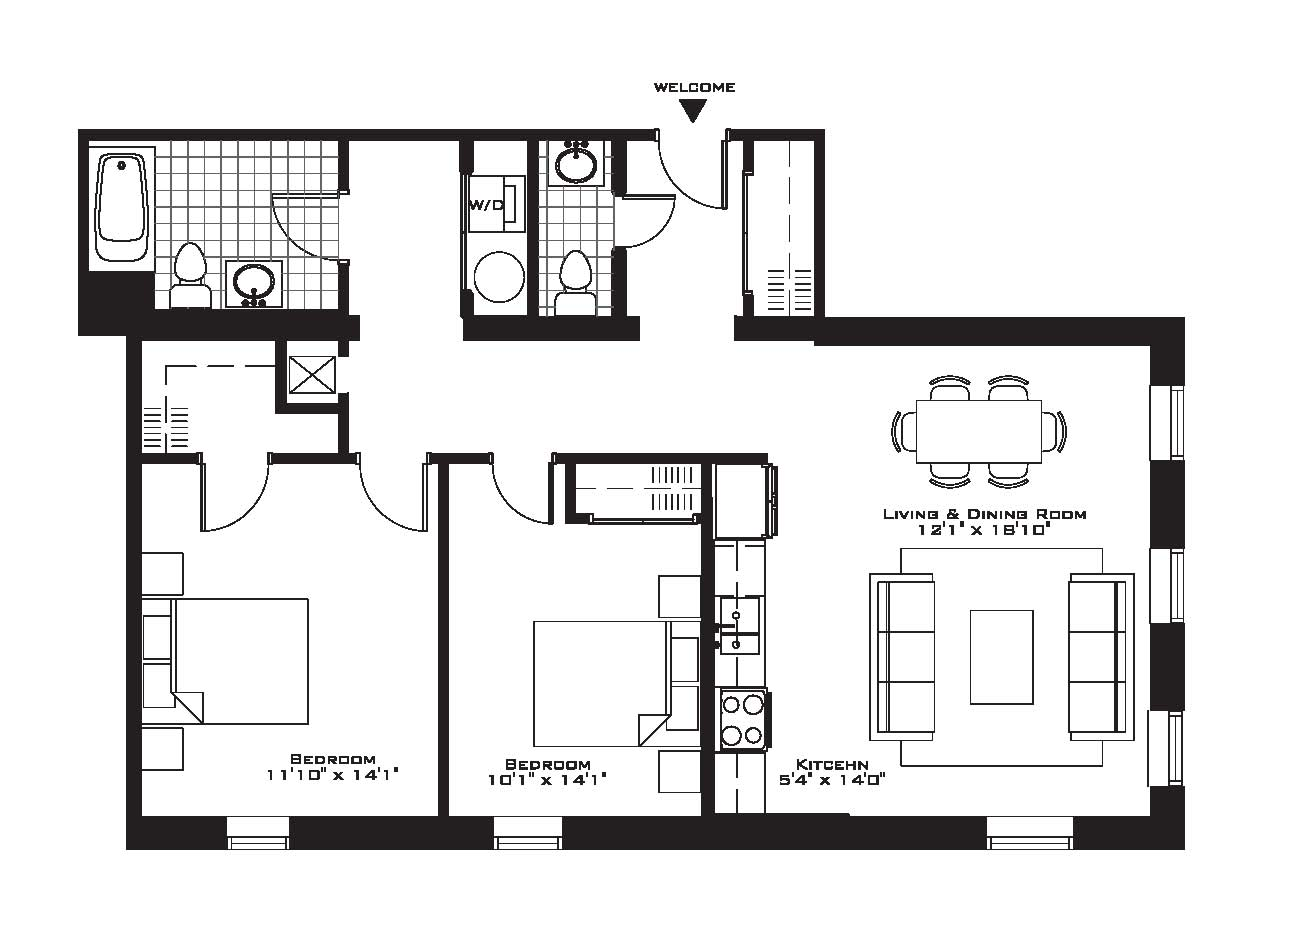wall: (815, 313, 1191, 345), (721, 812, 985, 853), (149, 306, 365, 344), (123, 450, 143, 848), (289, 813, 497, 851), (462, 318, 649, 347), (700, 457, 715, 816), (559, 818, 717, 853), (84, 270, 155, 341), (1075, 815, 1182, 853), (81, 125, 355, 139), (1146, 622, 1188, 710), (442, 461, 452, 818), (555, 453, 768, 468), (129, 816, 227, 847), (121, 339, 146, 455), (1153, 463, 1186, 550), (78, 128, 91, 335), (1149, 313, 1185, 386), (814, 126, 827, 318), (347, 126, 476, 142), (526, 124, 656, 139), (526, 139, 537, 316), (734, 318, 820, 339), (271, 451, 357, 467), (427, 447, 494, 467), (1149, 787, 1185, 822), (607, 138, 630, 196), (337, 261, 350, 358), (457, 128, 539, 142), (729, 126, 824, 138), (615, 248, 631, 318), (127, 454, 205, 467), (275, 400, 340, 415), (337, 138, 353, 192), (275, 341, 286, 412), (565, 463, 576, 528), (339, 390, 347, 458), (457, 137, 472, 171), (459, 287, 475, 316), (568, 510, 592, 525), (746, 138, 755, 177)
